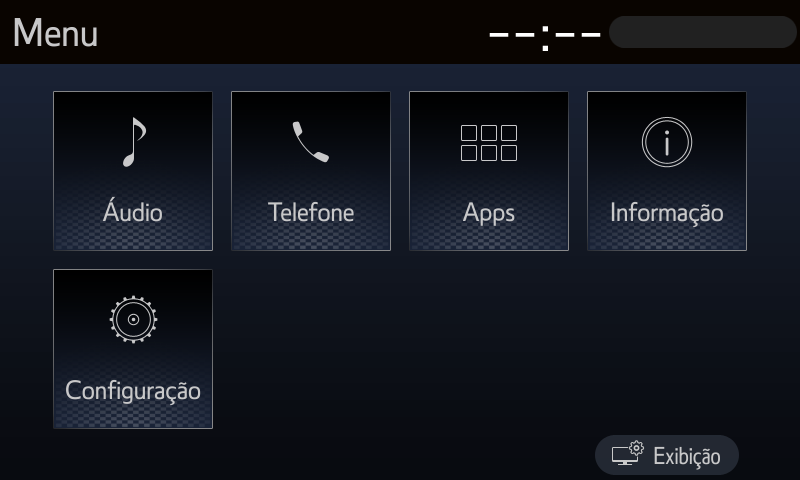touchPart: (50, 268, 217, 439), (50, 89, 216, 258), (583, 89, 752, 255), (405, 88, 572, 254), (227, 90, 393, 254), (593, 435, 741, 478)
untouchPart: (466, 10, 799, 53), (3, 5, 110, 52)
